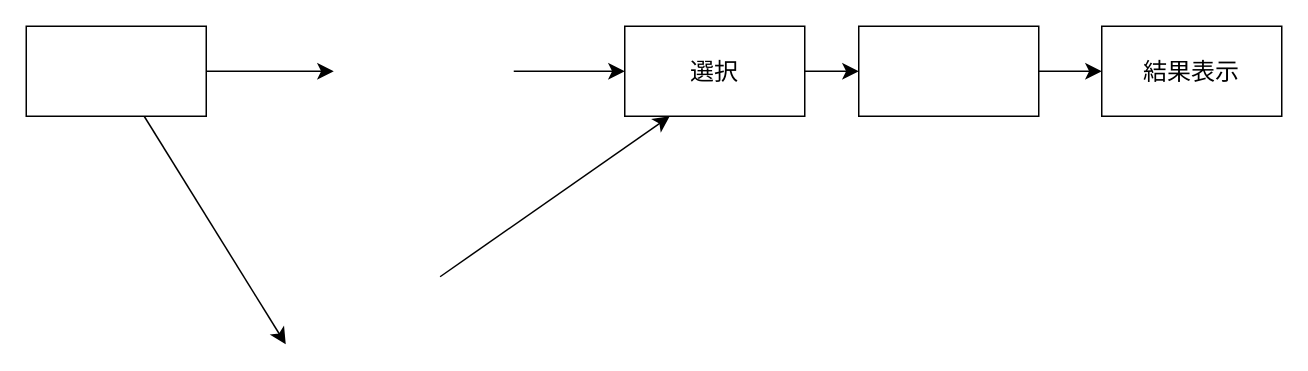
This 1308x371 diagram has some shape labels left out. Here are the shapes that lost their labels. From the top down, the box of each, then its label:
(25, 25, 206, 116): スタート
(857, 25, 1039, 116): 選択待ち
